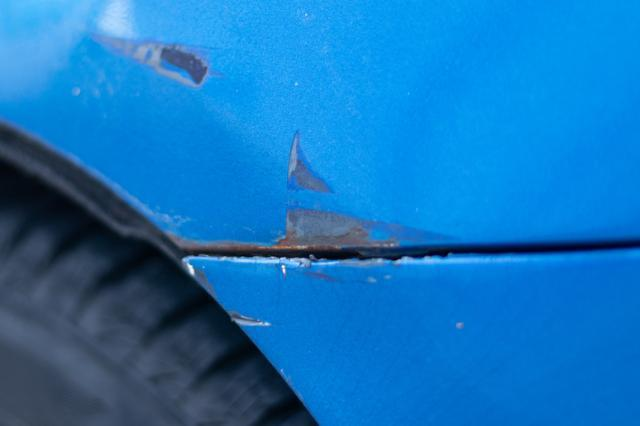Fender: (71, 17, 499, 258)
